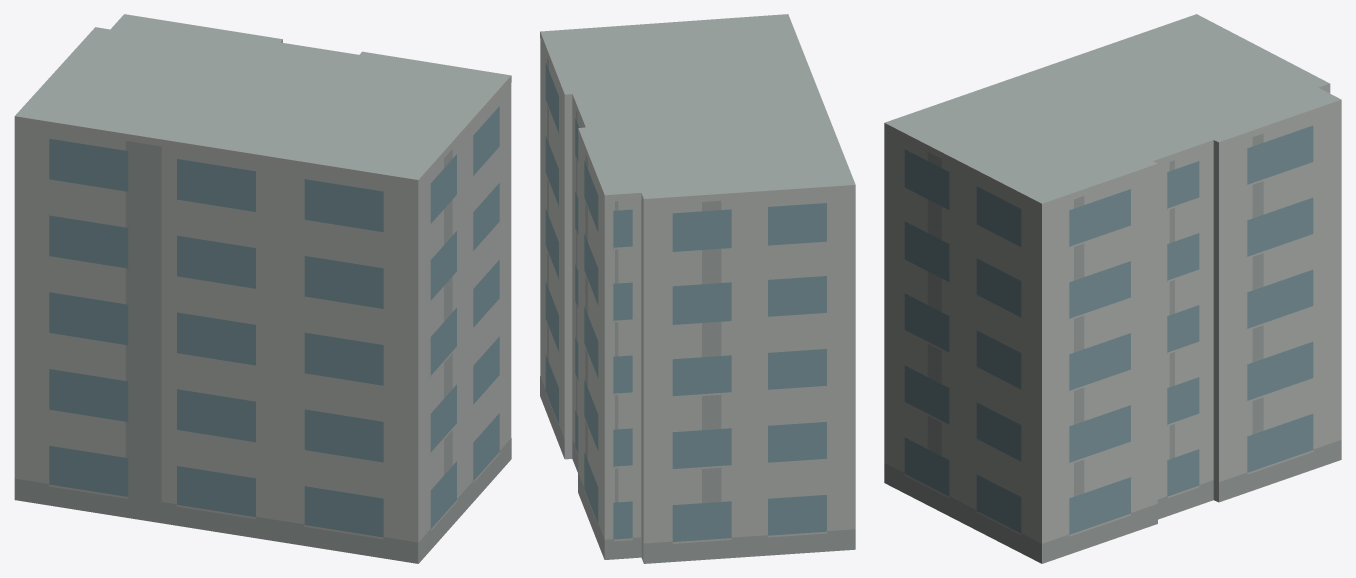
The model's file is survey-upis-32695186.glb.
The picture shows the model from 3 angles, left to right: view 1: azimuth 30°, elevation 25°; view 2: azimuth 150°, elevation 25°; view 3: azimuth 270°, elevation 25°; orthographic projection. The views are drawn at different scales.
Parts seen in each view (by area): view 1: survey-upis-32695186.tmp; view 2: survey-upis-32695186.tmp; view 3: survey-upis-32695186.tmp.
Part boxes in pixels (left/top/right/bottom): survey-upis-32695186.tmp: left=14, top=14, right=511, bottom=563; survey-upis-32695186.tmp: left=540, top=14, right=855, bottom=563; survey-upis-32695186.tmp: left=884, top=14, right=1341, bottom=563.
Bounding box in the file's own units: 14.92 × 13.2 × 15.2.
